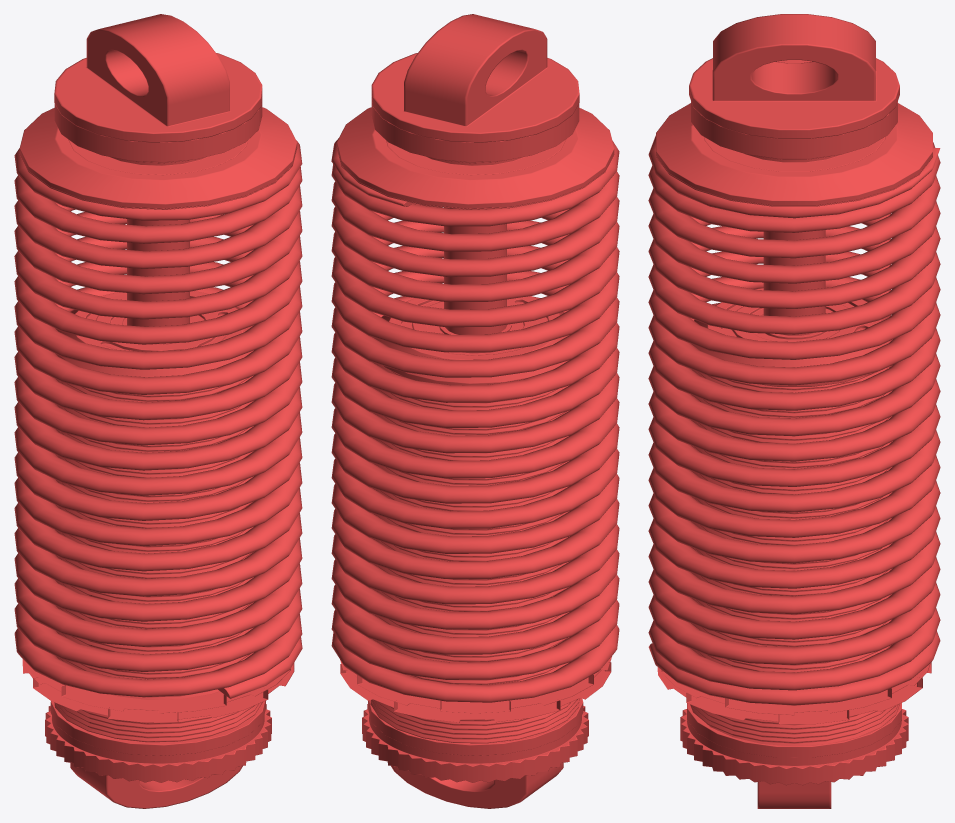
The model's file is high_res_helical_spring.glb.
The picture shows the model from 3 angles, left to right: view 1: azimuth 30°, elevation 25°; view 2: azimuth 150°, elevation 25°; view 3: azimuth 270°, elevation 25°; orthographic projection.
Parts seen in each view (by area): view 1: HighRes_HelicalSpring; view 2: HighRes_HelicalSpring; view 3: HighRes_HelicalSpring.
Boxes of the visible parts, x1,y1,x2,y2 form: HighRes_HelicalSpring: (14,14,302,808); HighRes_HelicalSpring: (331,14,619,808); HighRes_HelicalSpring: (648,14,940,808).
Bounding box in the file's own units: 0.104 × 0.3 × 0.104.
